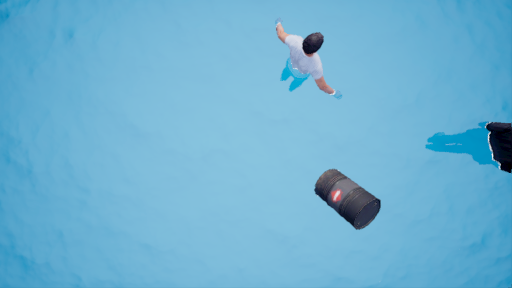person: (269, 19, 351, 104), (423, 118, 512, 173)
